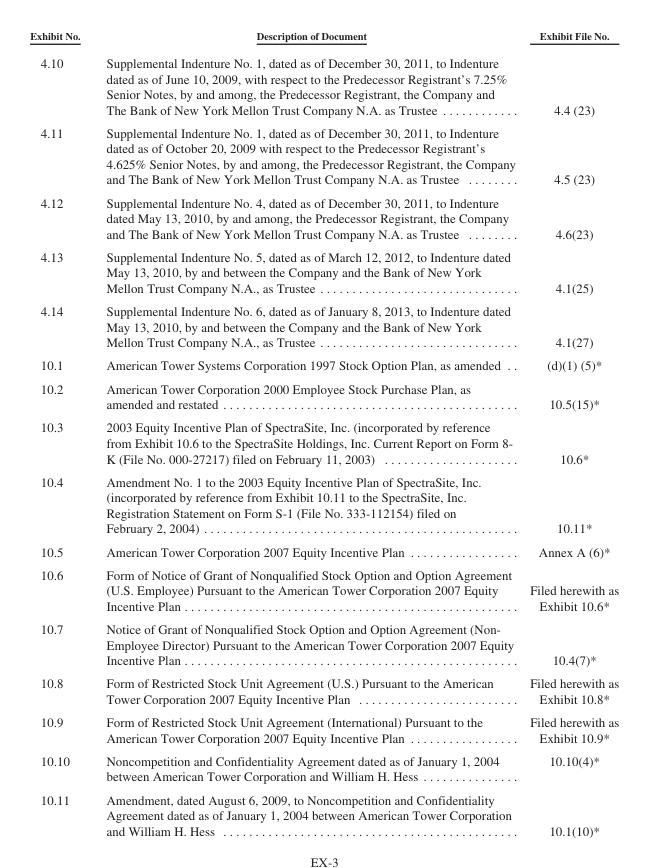table: (29, 29, 618, 837)
table column: (92, 29, 522, 837), (522, 29, 618, 837), (29, 29, 92, 837)
table column header: (29, 29, 618, 48)
table row: (29, 48, 618, 120), (29, 120, 618, 190), (29, 469, 618, 539), (29, 244, 618, 299), (29, 562, 618, 617), (29, 190, 618, 244), (29, 299, 618, 353), (29, 415, 618, 469), (29, 617, 618, 671), (29, 787, 618, 837), (29, 376, 618, 415), (29, 671, 618, 710), (29, 748, 618, 787), (29, 710, 618, 748), (29, 353, 618, 376), (29, 539, 618, 562), (29, 29, 618, 48)
